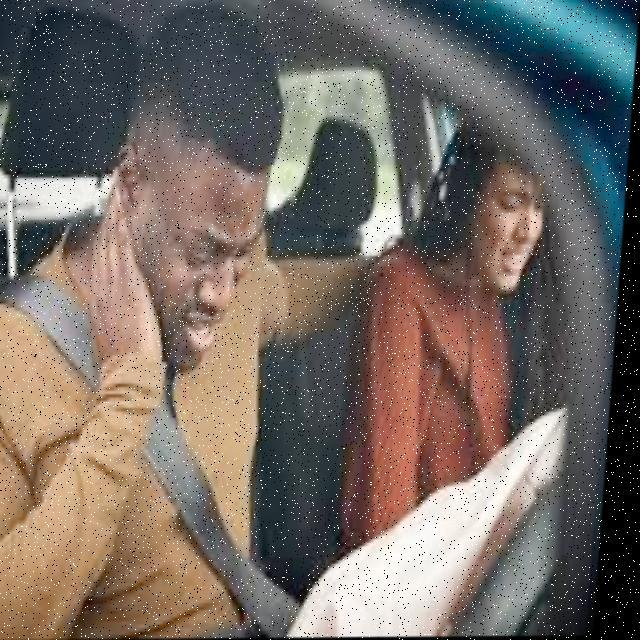noSeatbelt: (350, 267, 532, 534)
seatbelt: (0, 257, 274, 640)
